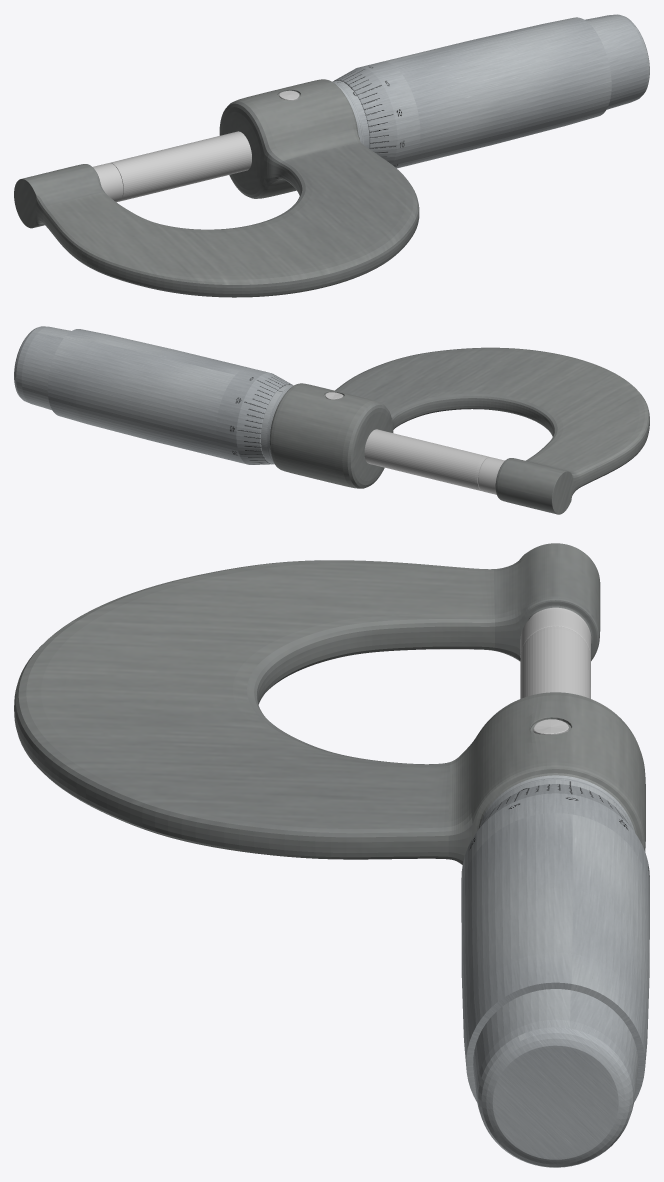
File: micrometer.fbx
3 renders of one model, top to bottom at view 1: azimuth 30°, elevation 25°; view 2: azimuth 150°, elevation 25°; view 3: azimuth 270°, elevation 25°, orthographic. The views are drawn at different scales.
Visible parts, largest first — view 1: RotatingMeasurer, MovingMeasurer, MovingRod; view 2: RotatingMeasurer, MovingMeasurer, MovingRod; view 3: RotatingMeasurer, MovingMeasurer, MovingRod.
Boxes of the visible parts, x1,y1,x2,y2 form: RotatingMeasurer: (14,79,419,297); MovingMeasurer: (333,14,649,168); MovingRod: (110,131,251,201); RotatingMeasurer: (261,347,649,514); MovingMeasurer: (14,326,292,464); MovingRod: (364,429,489,490); RotatingMeasurer: (14,543,645,864); MovingMeasurer: (461,784,649,1167); MovingRod: (520,626,590,698).
Bounding box in the file's own units: 134 × 20.07 × 67.67.
